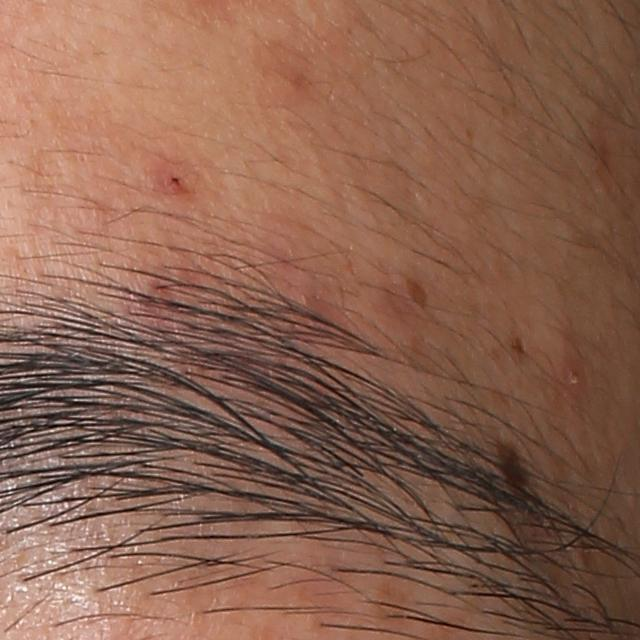nevus: (494, 439, 528, 503)
papule: (160, 162, 196, 200)
